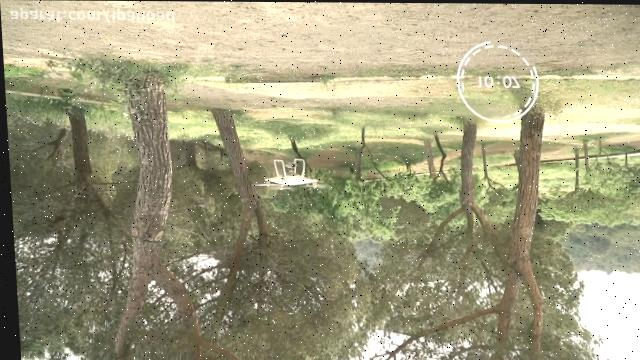drone: (247, 157, 325, 192)
